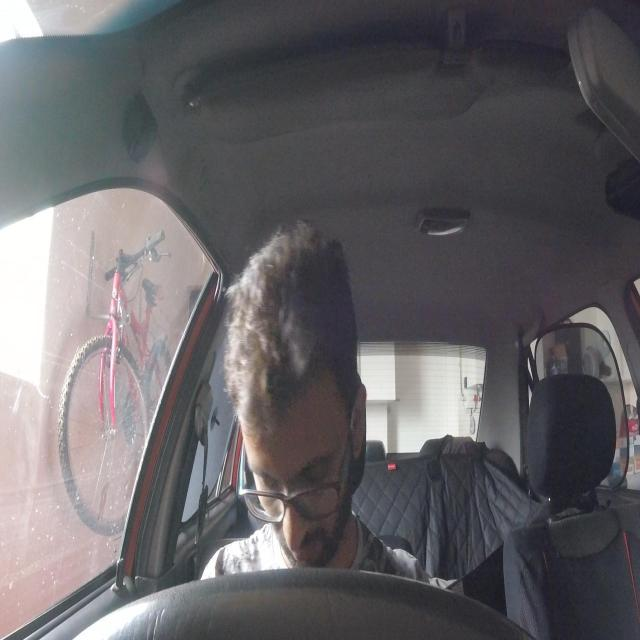close: (296, 452, 328, 489), (248, 463, 283, 496)
